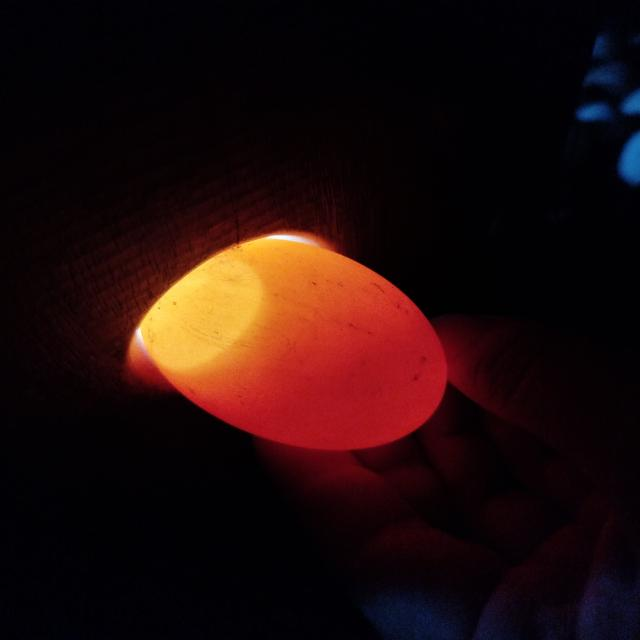Camara de Ar: (140, 255, 262, 368)
